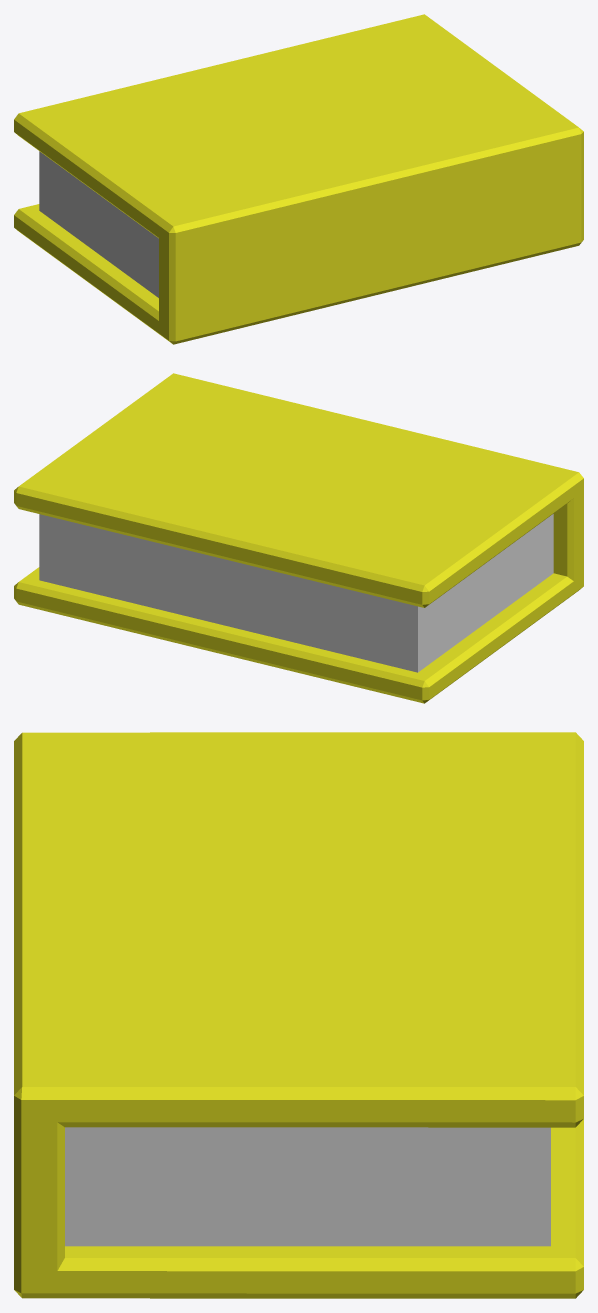
The model's file is yellow_book.fbx.
3 renders of one model, top to bottom at view 1: azimuth 30°, elevation 25°; view 2: azimuth 150°, elevation 25°; view 3: azimuth 270°, elevation 25°, orthographic. The views are drawn at different scales.
Parts seen in each view (by area): view 1: Purple_book.001; view 2: Purple_book.001; view 3: Purple_book.001.
Boxes of the visible parts, left/top/right/bottom form: Purple_book.001: left=14, top=14, right=583, bottom=344; Purple_book.001: left=14, top=373, right=583, bottom=703; Purple_book.001: left=14, top=732, right=583, bottom=1298.
Size of the model in its own units: 0.8917 by 0.5921 by 0.2425.
